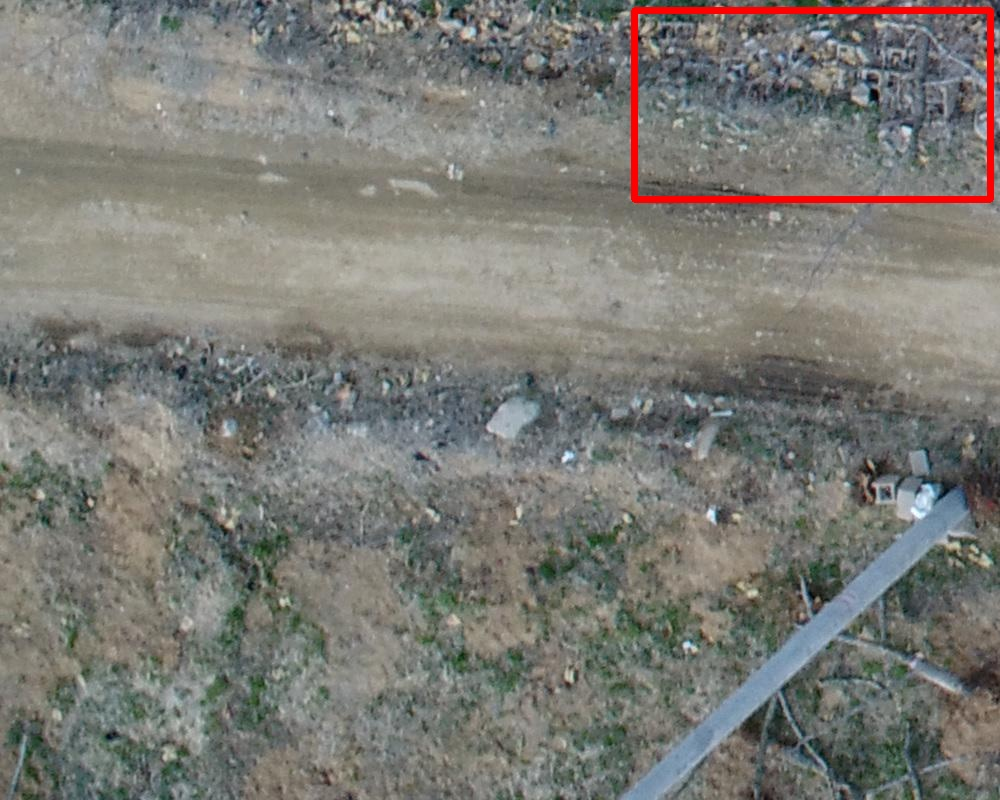apple: (634, 10, 990, 199)
